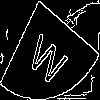W: (25, 25, 73, 89)
